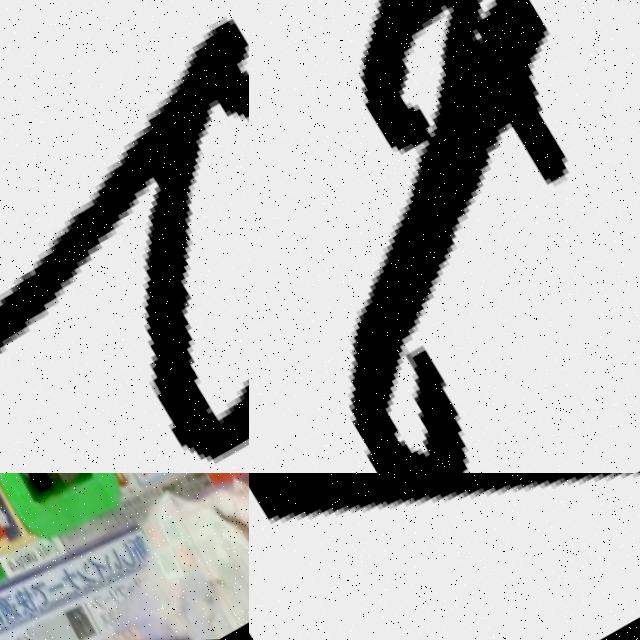C: (0, 473, 126, 547)
P: (249, 0, 640, 415)
Q: (0, 0, 249, 473)
V: (249, 473, 640, 640)
